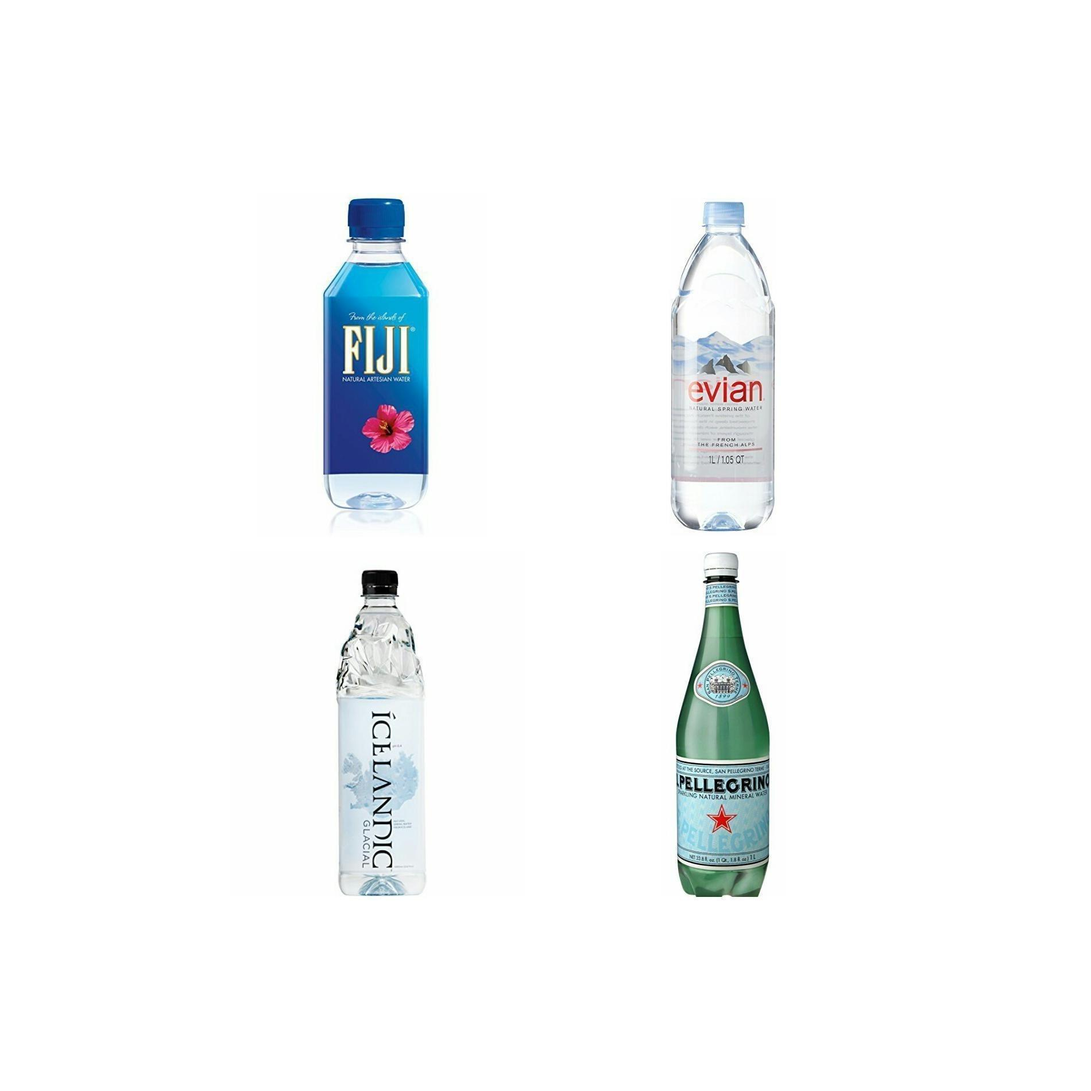bottle-glass: (670, 548, 774, 900)
bottle-plastic: (666, 194, 781, 536), (318, 194, 434, 516), (330, 566, 432, 902)
